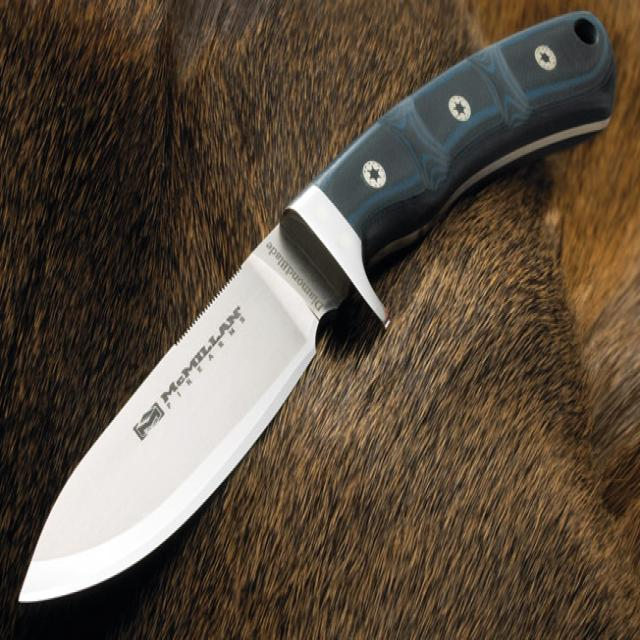knife: (14, 15, 618, 609)
